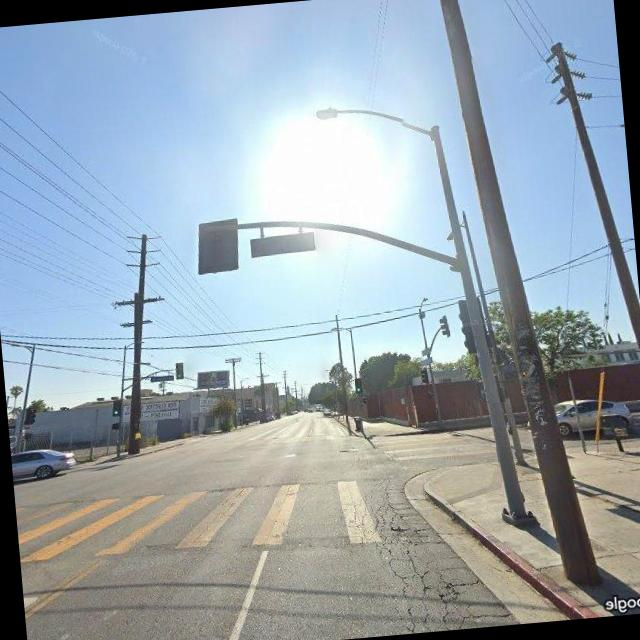crack: (336, 469, 500, 638)
